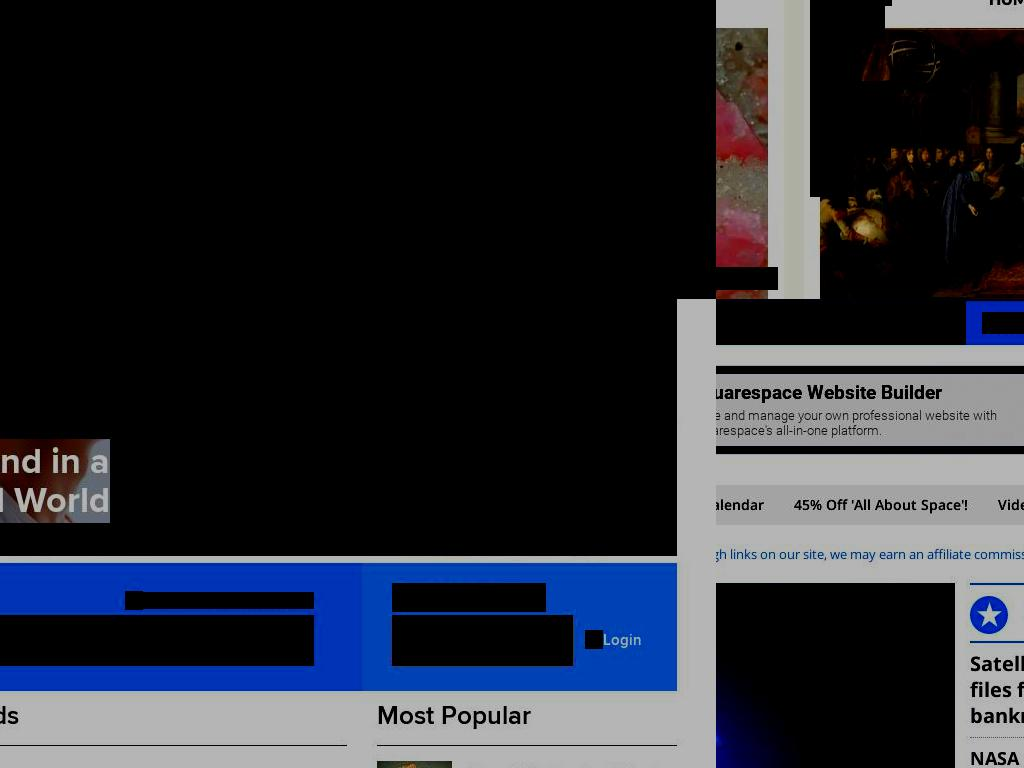button: (820, 27, 1024, 299), (716, 583, 955, 768), (392, 615, 573, 666), (780, 485, 982, 525), (45, 233, 214, 278), (823, 301, 966, 345), (810, 267, 1024, 290), (716, 301, 823, 345), (21, 186, 181, 210), (810, 119, 891, 158), (810, 81, 890, 120), (810, 5, 885, 44), (966, 301, 1024, 345), (716, 485, 778, 525), (810, 43, 862, 82), (810, 157, 854, 197), (984, 485, 1024, 525)
field: (0, 615, 314, 666)
heading: (45, 32, 544, 153), (45, 90, 561, 205), (45, 0, 455, 43), (0, 439, 110, 523), (377, 701, 677, 730), (406, 492, 515, 537), (406, 438, 514, 483), (392, 583, 546, 612), (158, 503, 340, 526), (158, 449, 263, 472)
iframe: (716, 365, 1024, 455)
image: (0, 0, 716, 299), (0, 299, 677, 556), (820, 27, 1024, 299), (716, 583, 955, 768), (125, 591, 143, 610)
link: (603, 630, 642, 649)
text: (716, 545, 1024, 563), (839, 312, 950, 334), (716, 312, 807, 334), (208, 592, 314, 609), (143, 592, 208, 609), (982, 312, 1024, 334), (26, 292, 80, 299), (585, 630, 603, 649)
